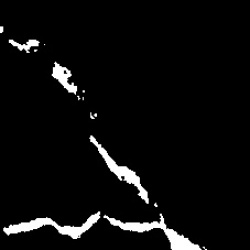crack: (92, 138, 149, 203), (105, 214, 204, 248), (5, 210, 99, 239), (53, 64, 80, 96), (9, 39, 38, 53)
